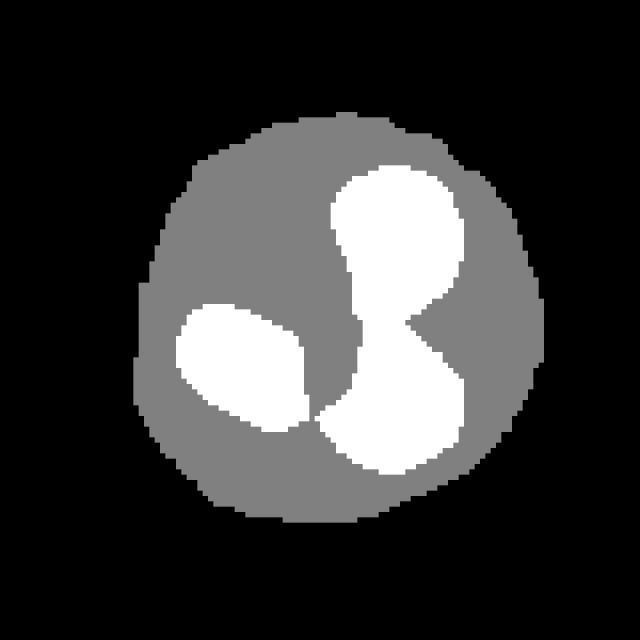WBC: (123, 101, 560, 539)
